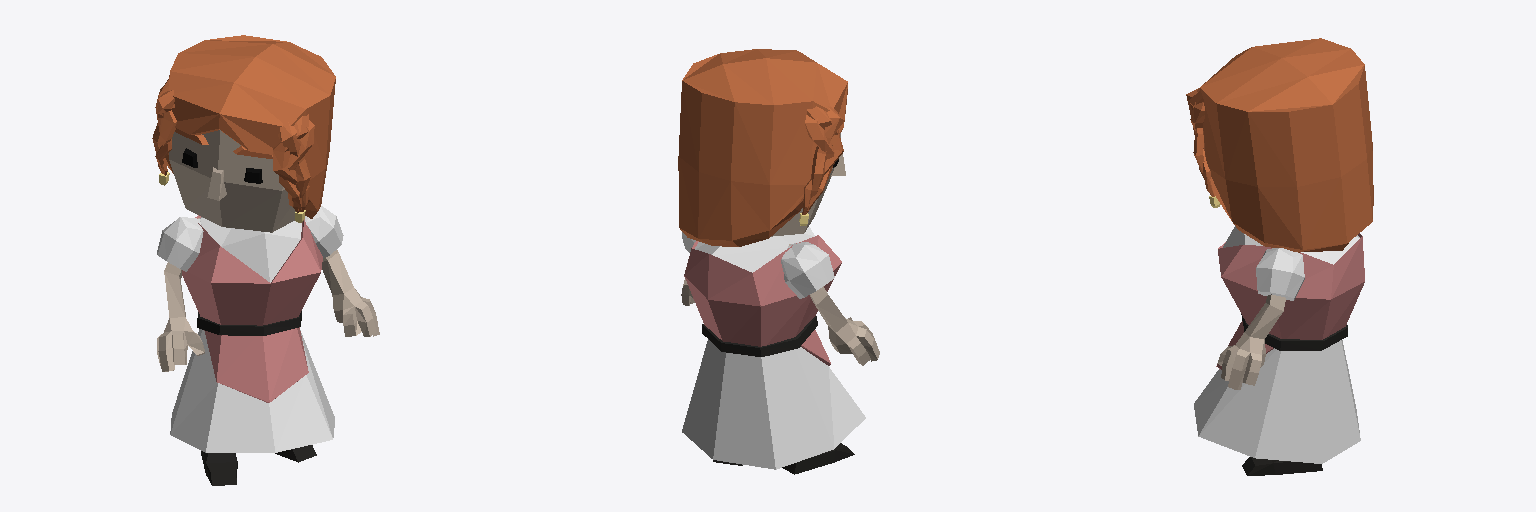
3 views of the same model, side by side, from view 1: azimuth 30°, elevation 25°; view 2: azimuth 150°, elevation 25°; view 3: azimuth 270°, elevation 25° (orthographic).
Visible parts, largest first — view 1: FoodMerchant_GEO_CharTxt_MAT_0; view 2: FoodMerchant_GEO_CharTxt_MAT_0; view 3: FoodMerchant_GEO_CharTxt_MAT_0.
Boxes of the visible parts, box(x1,y1,x2,y2) form: FoodMerchant_GEO_CharTxt_MAT_0: box(152, 35, 379, 485); FoodMerchant_GEO_CharTxt_MAT_0: box(678, 49, 879, 474); FoodMerchant_GEO_CharTxt_MAT_0: box(1186, 38, 1373, 475).
Size of the model in its own units: 0.7242 by 1.35 by 0.5772.
Materials: 1 (1 with a texture image).